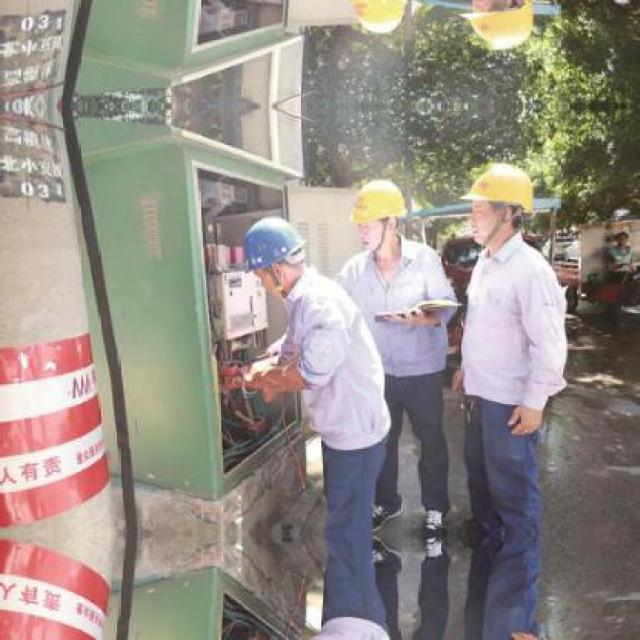helmet: (456, 157, 538, 242), (235, 209, 312, 295), (346, 172, 408, 258), (455, 0, 540, 56), (346, 0, 409, 40)
